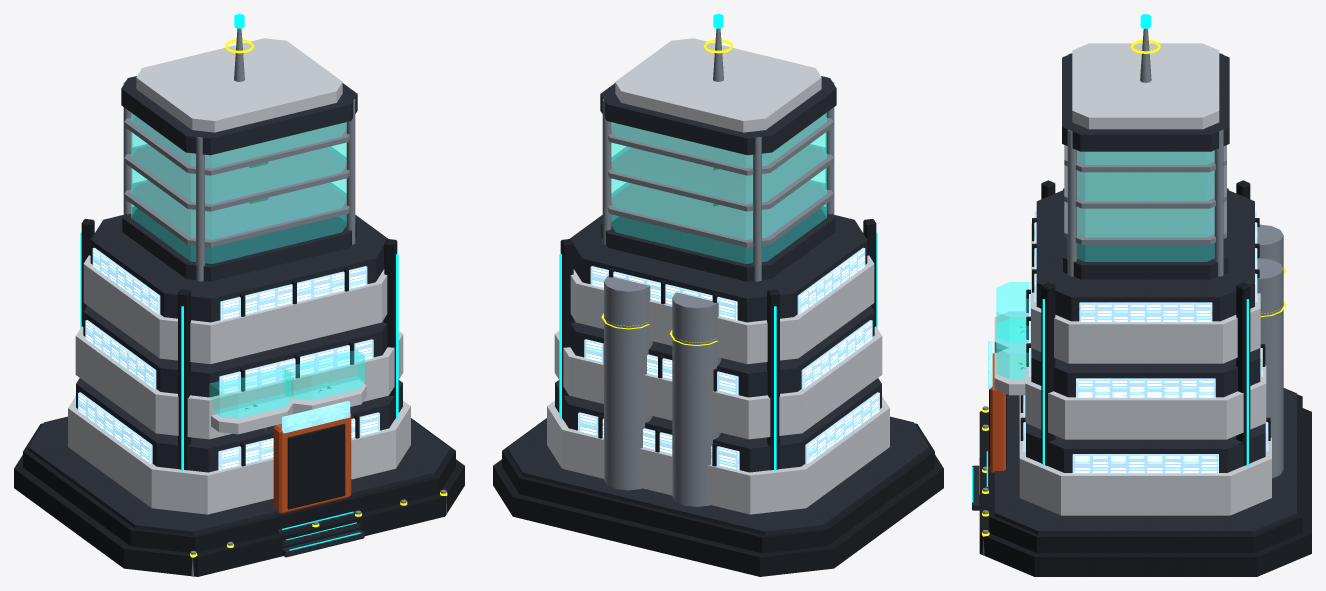
File: bldg_03_r1_01.glb
The picture shows the model from 3 angles, left to right: view 1: azimuth 30°, elevation 25°; view 2: azimuth 150°, elevation 25°; view 3: azimuth 270°, elevation 25°; orthographic projection.
Parts seen in each view (by area): view 1: Bldg03_C01_aero_white, Bldg03_C01_carbon_slate, Bldg03_C01_gunmetal, Bldg03_C01_glass_emerald, Bldg03_C01_steel_machined, Bldg03_C01_window_lit, Bldg03_C01_accent_orange, Bldg03_C01_led_cyan, Bldg03_C01_marquee; view 2: Bldg03_C01_aero_white, Bldg03_C01_carbon_slate, Bldg03_C01_steel_machined, Bldg03_C01_gunmetal, Bldg03_C01_glass_emerald, Bldg03_C01_window_lit, Bldg03_C01_led_cyan; view 3: Bldg03_C01_aero_white, Bldg03_C01_carbon_slate, Bldg03_C01_gunmetal, Bldg03_C01_steel_machined, Bldg03_C01_glass_emerald, Bldg03_C01_window_lit, Bldg03_C01_accent_orange, Bldg03_C01_led_cyan.
Boxes of the visible parts, box(x1,y1,x2,y2) form: Bldg03_C01_aero_white: box(68, 38, 410, 514); Bldg03_C01_carbon_slate: box(28, 76, 450, 557); Bldg03_C01_gunmetal: box(14, 219, 464, 576); Bldg03_C01_glass_emerald: box(131, 112, 364, 418); Bldg03_C01_steel_machined: box(123, 28, 446, 576); Bldg03_C01_window_lit: box(78, 247, 379, 470); Bldg03_C01_accent_orange: box(273, 414, 351, 513); Bldg03_C01_led_cyan: box(80, 14, 398, 550); Bldg03_C01_marquee: box(282, 401, 350, 433); Bldg03_C01_aero_white: box(547, 38, 889, 514); Bldg03_C01_carbon_slate: box(507, 76, 929, 535); Bldg03_C01_steel_machined: box(602, 28, 834, 506); Bldg03_C01_gunmetal: box(493, 219, 943, 576); Bldg03_C01_glass_emerald: box(611, 112, 826, 263); Bldg03_C01_window_lit: box(578, 247, 879, 470); Bldg03_C01_led_cyan: box(559, 14, 877, 470); Bldg03_C01_aero_white: box(994, 43, 1271, 515); Bldg03_C01_carbon_slate: box(972, 53, 1296, 534); Bldg03_C01_gunmetal: box(979, 180, 1311, 576); Bldg03_C01_steel_machined: box(982, 28, 1283, 555); Bldg03_C01_glass_emerald: box(996, 150, 1214, 379); Bldg03_C01_window_lit: box(1023, 211, 1268, 474); Bldg03_C01_accent_orange: box(990, 353, 1005, 472); Bldg03_C01_led_cyan: box(972, 14, 1248, 502).
Bounding box in the file's own units: 12 × 15.82 × 10.23.
Materials: 14 (14 with a texture image).
